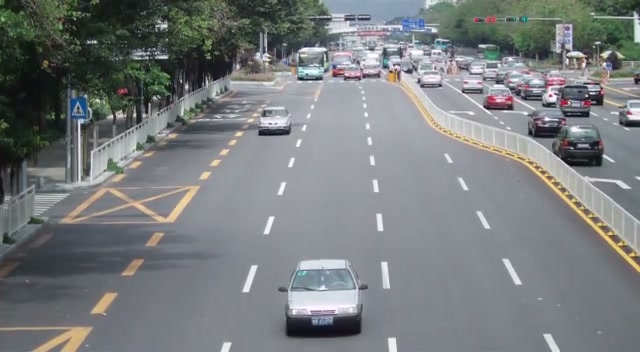bus: (297, 47, 329, 81)
car: (277, 259, 368, 335), (552, 124, 605, 166), (527, 108, 568, 137), (557, 85, 591, 118), (257, 106, 292, 136), (483, 85, 514, 110), (618, 99, 640, 127), (519, 77, 546, 99), (541, 87, 561, 108), (420, 71, 442, 88), (462, 77, 484, 93), (343, 64, 362, 81)
truck: (297, 47, 329, 80)
